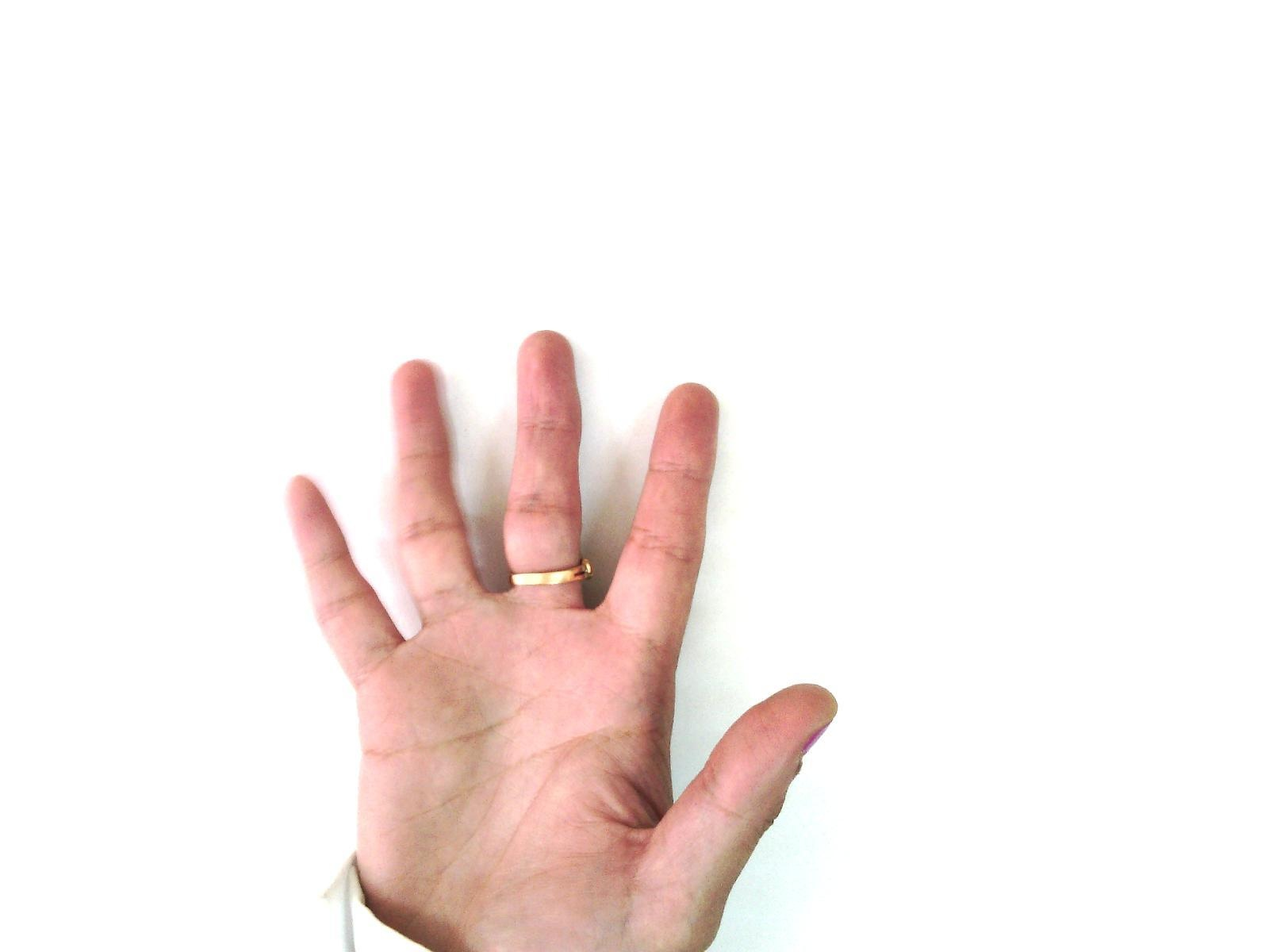open_palm: (282, 328, 840, 951)
